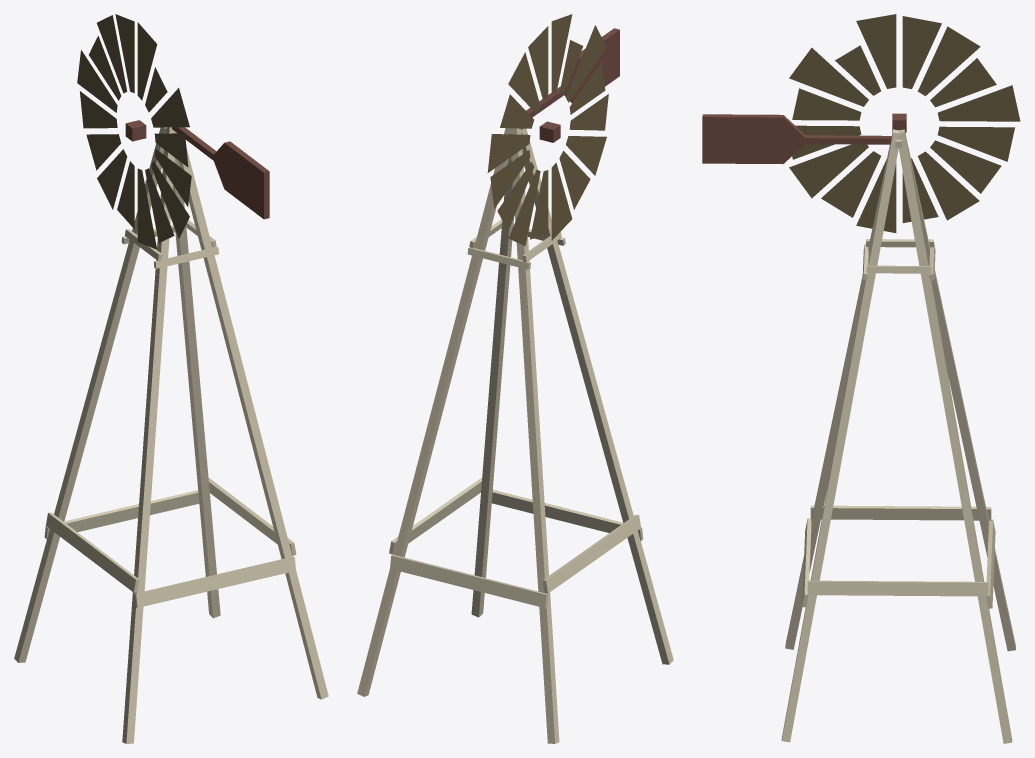
The model's file is P_windmill_01_LD.fbx.
3 renders of one model, left to right at view 1: azimuth 30°, elevation 25°; view 2: azimuth 150°, elevation 25°; view 3: azimuth 270°, elevation 25°, orthographic.
Parts seen in each view (by area): view 1: P_windmill_01; view 2: P_windmill_01; view 3: P_windmill_01.
Boxes of the visible parts, x1,y1,x2,y2 form: P_windmill_01: [14, 14, 328, 743]; P_windmill_01: [357, 14, 673, 743]; P_windmill_01: [702, 14, 1020, 743].
Bounding box in the file's own units: 472 × 1478 × 641.
